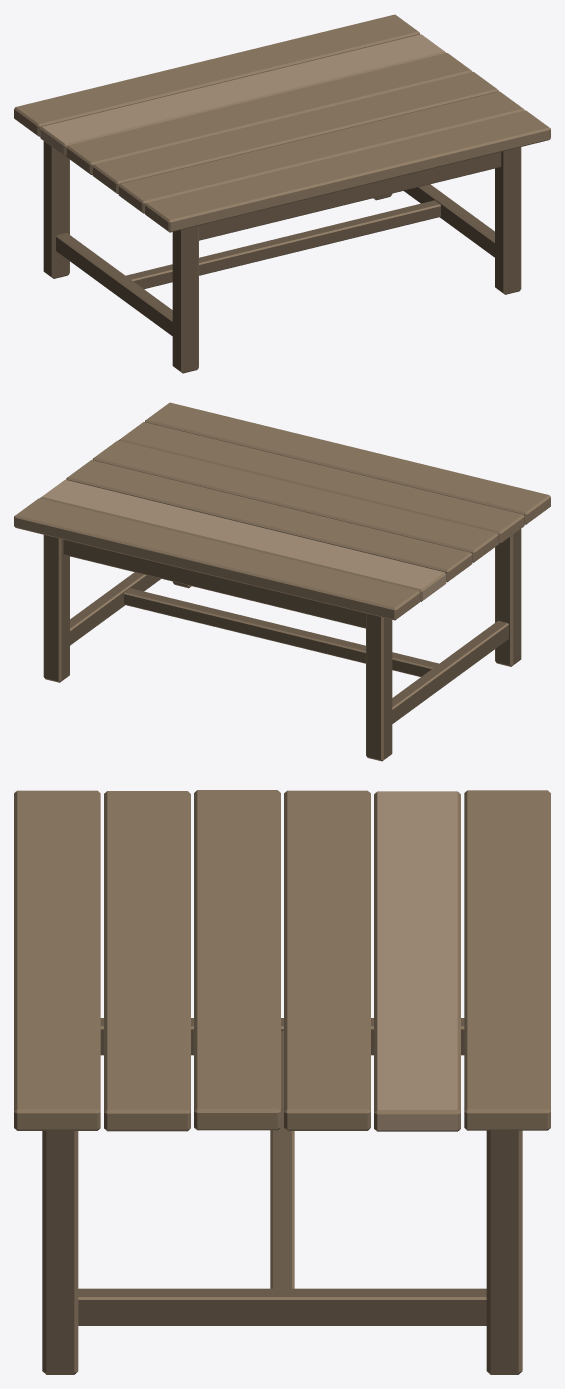
File: table.glb
The picture shows the model from 3 angles, top to bottom: view 1: azimuth 30°, elevation 25°; view 2: azimuth 150°, elevation 25°; view 3: azimuth 270°, elevation 25°; orthographic projection. The views are drawn at different scales.
Parts seen in each view (by area): view 1: Table; view 2: Table; view 3: Table.
Boxes of the visible parts, bbox=[...] form: Table: bbox=[14, 14, 550, 373]; Table: bbox=[14, 402, 550, 761]; Table: bbox=[14, 790, 550, 1374].
Size of the model in its own units: 1.9 by 0.7838 by 1.34.
